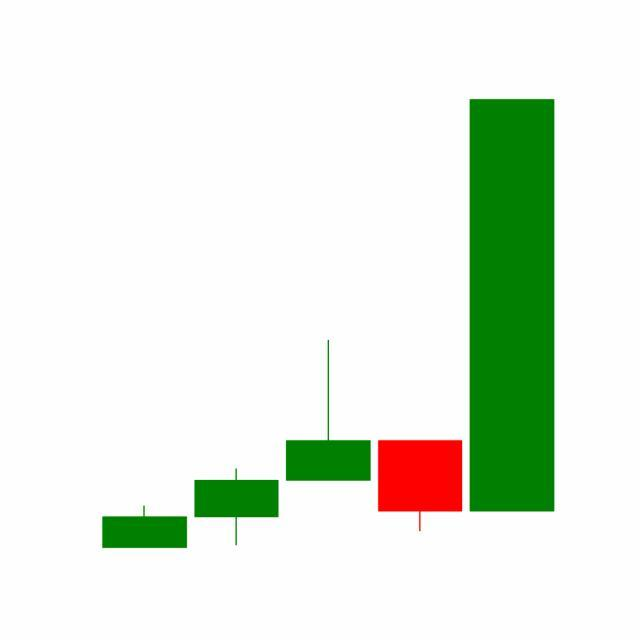Marubozu: (466, 95, 559, 516)
